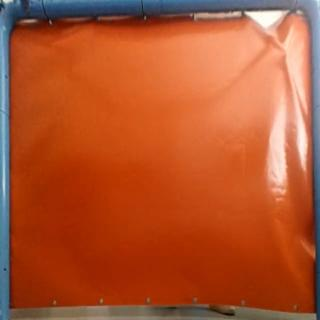Hit-hRxx: (274, 43, 295, 57)
